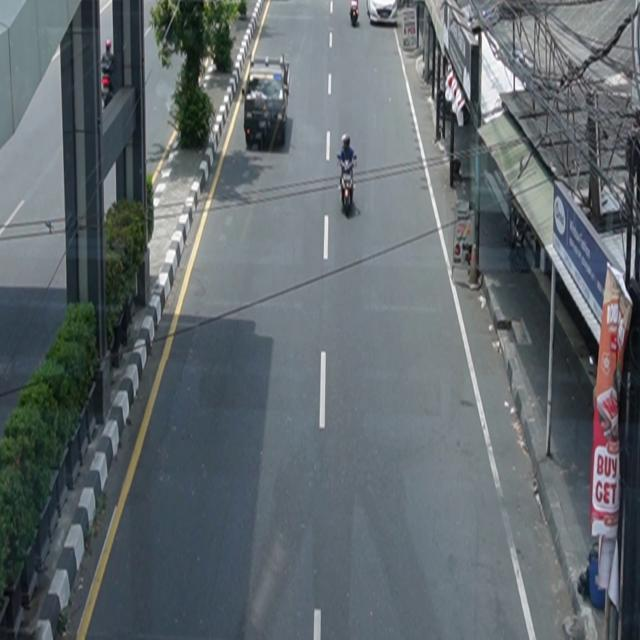car: (244, 54, 291, 151), (368, 1, 399, 26), (350, 1, 359, 25)
